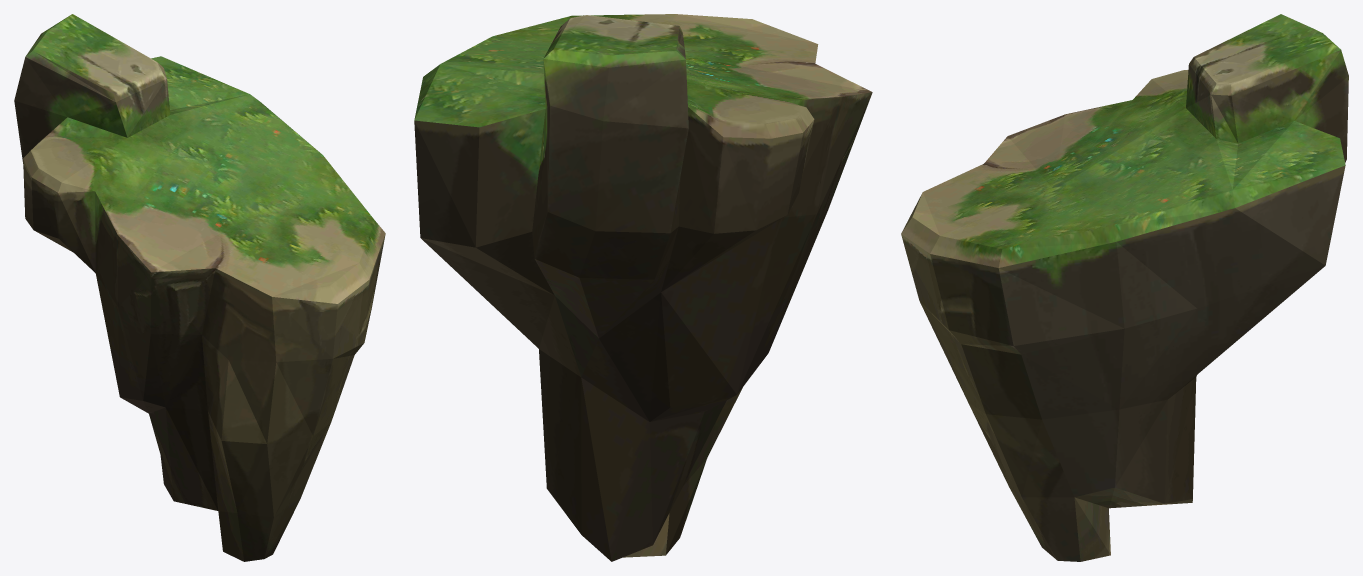
The model's file is TKZC_ShiTou_02.fbx.
3 renders of one model, left to right at view 1: azimuth 30°, elevation 25°; view 2: azimuth 150°, elevation 25°; view 3: azimuth 270°, elevation 25°, orthographic. The views are drawn at different scales.
Parts seen in each view (by area): view 1: TKZC_ShiTou_02; view 2: TKZC_ShiTou_02; view 3: TKZC_ShiTou_02.
Boxes of the visible parts, box(x1,y1,x2,y2) form: TKZC_ShiTou_02: box(14, 14, 385, 561); TKZC_ShiTou_02: box(414, 14, 872, 561); TKZC_ShiTou_02: box(901, 14, 1348, 561).
Bounding box in the file's own units: 8.94 × 14.84 × 12.5.
